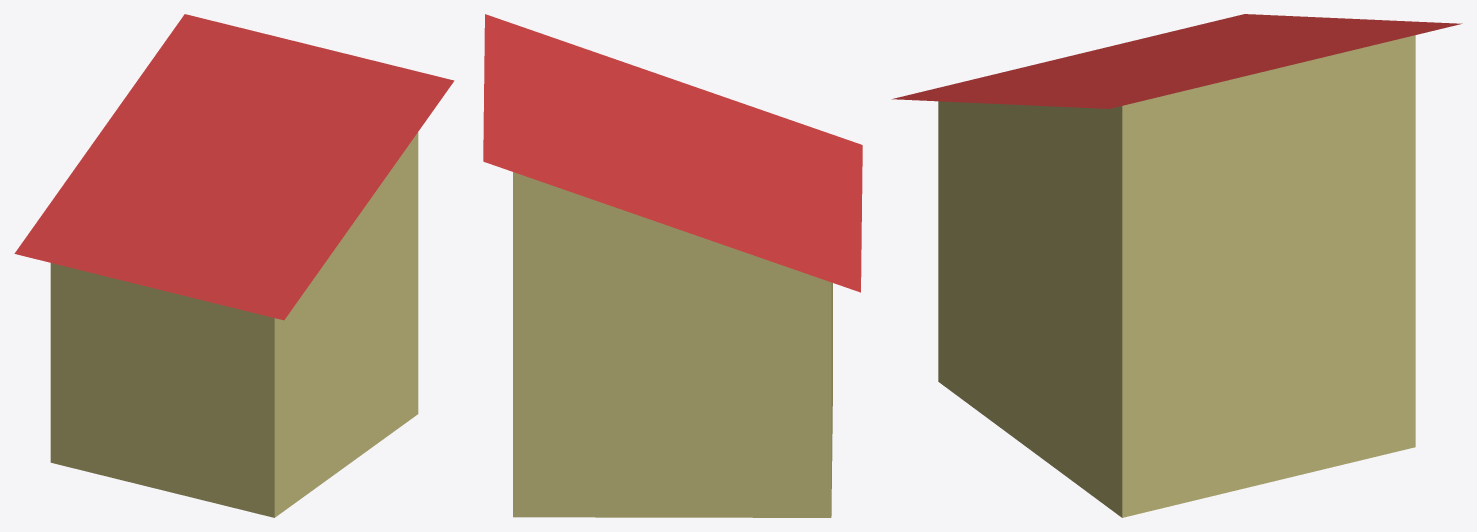
The picture shows the model from 3 angles, left to right: view 1: azimuth 30°, elevation 25°; view 2: azimuth 150°, elevation 25°; view 3: azimuth 270°, elevation 25°; orthographic projection. The views are drawn at different scales.
Bounding box in the file's own units: 12.67 × 12.41 × 10.27.
